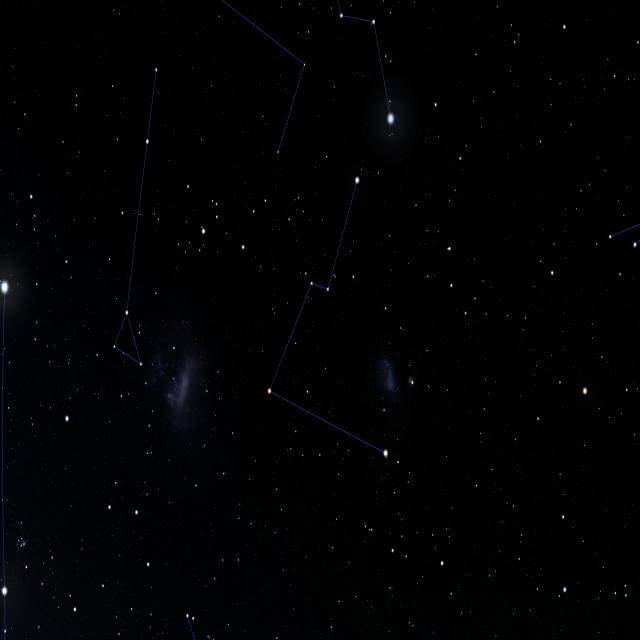Hydrus: (262, 173, 392, 458)
